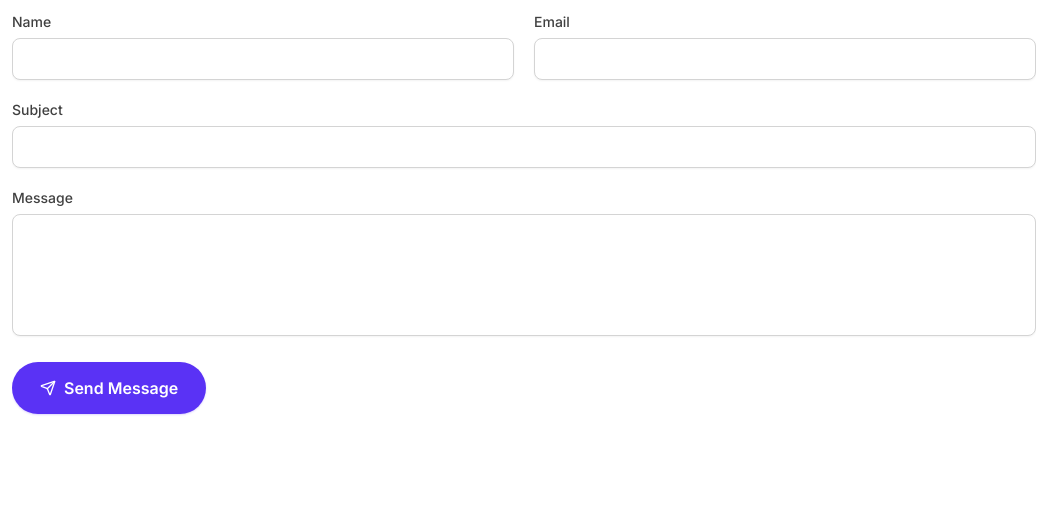
Test: ContactForm › shows validation errors and does not submit when fields are empty
Click the button "Send Message". click: [109, 388]
box: [12,362,206,414]
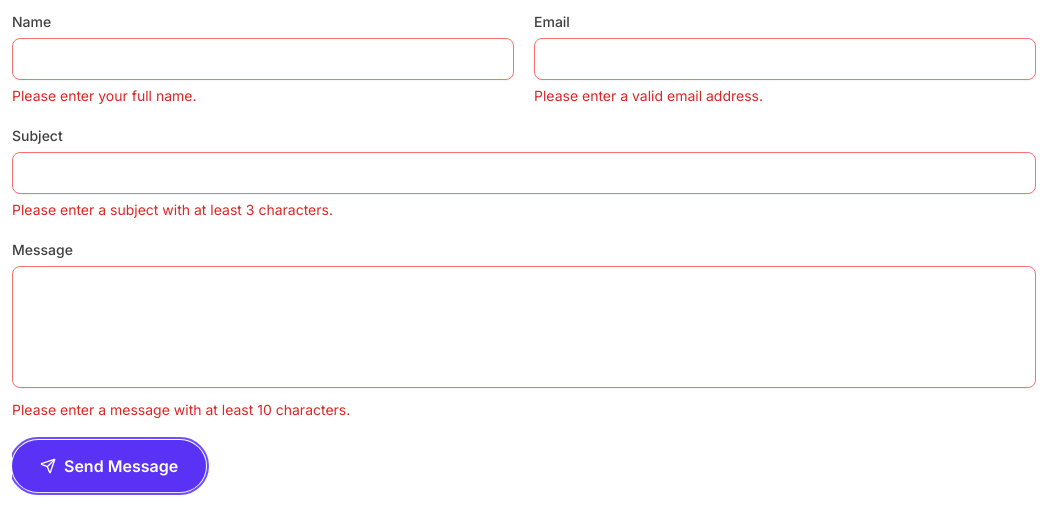
Result: the text "Please enter your full name." is shown at [12,87,196,104]
Result: the text "Please enter a valid email address." is shown at [534,87,763,104]
Result: the text "Please enter a subject with at least 3 characters." is shown at [12,201,333,218]
